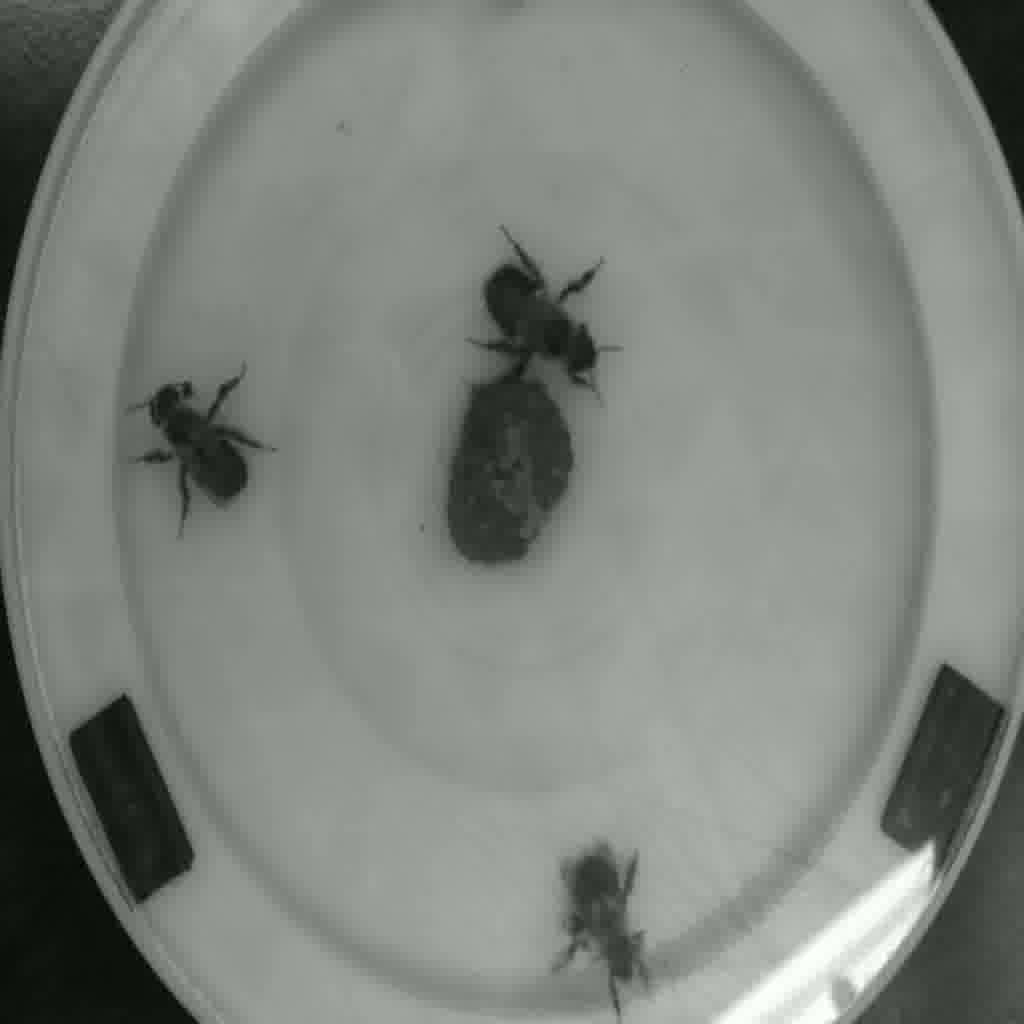bee: (475, 241, 619, 402), (542, 843, 673, 1003), (127, 379, 268, 525)
